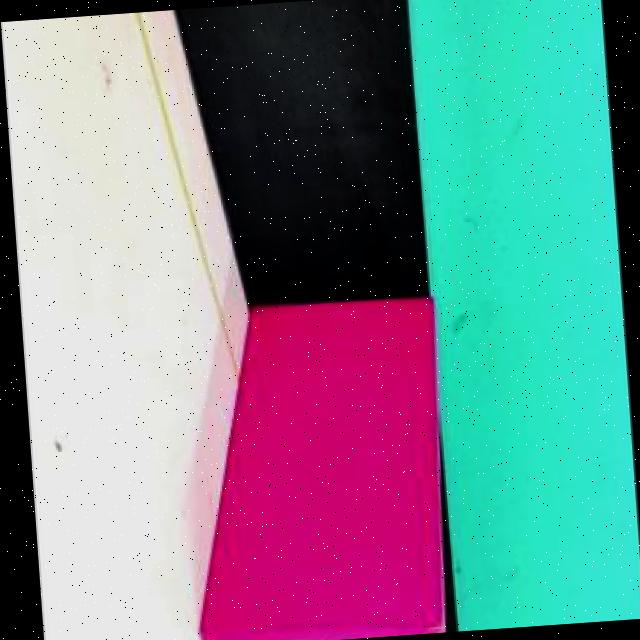xparking: (182, 302, 436, 637)
